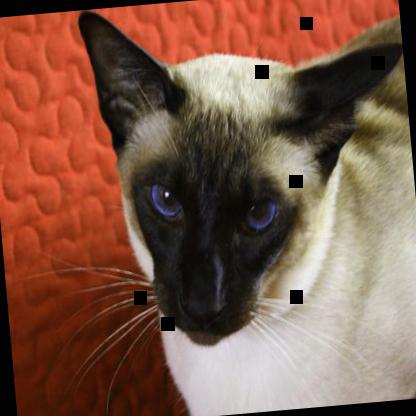cat: (74, 0, 415, 415)
